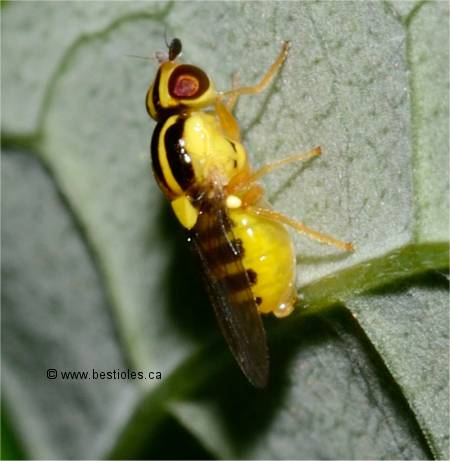Chloropidae: (123, 29, 359, 384)
